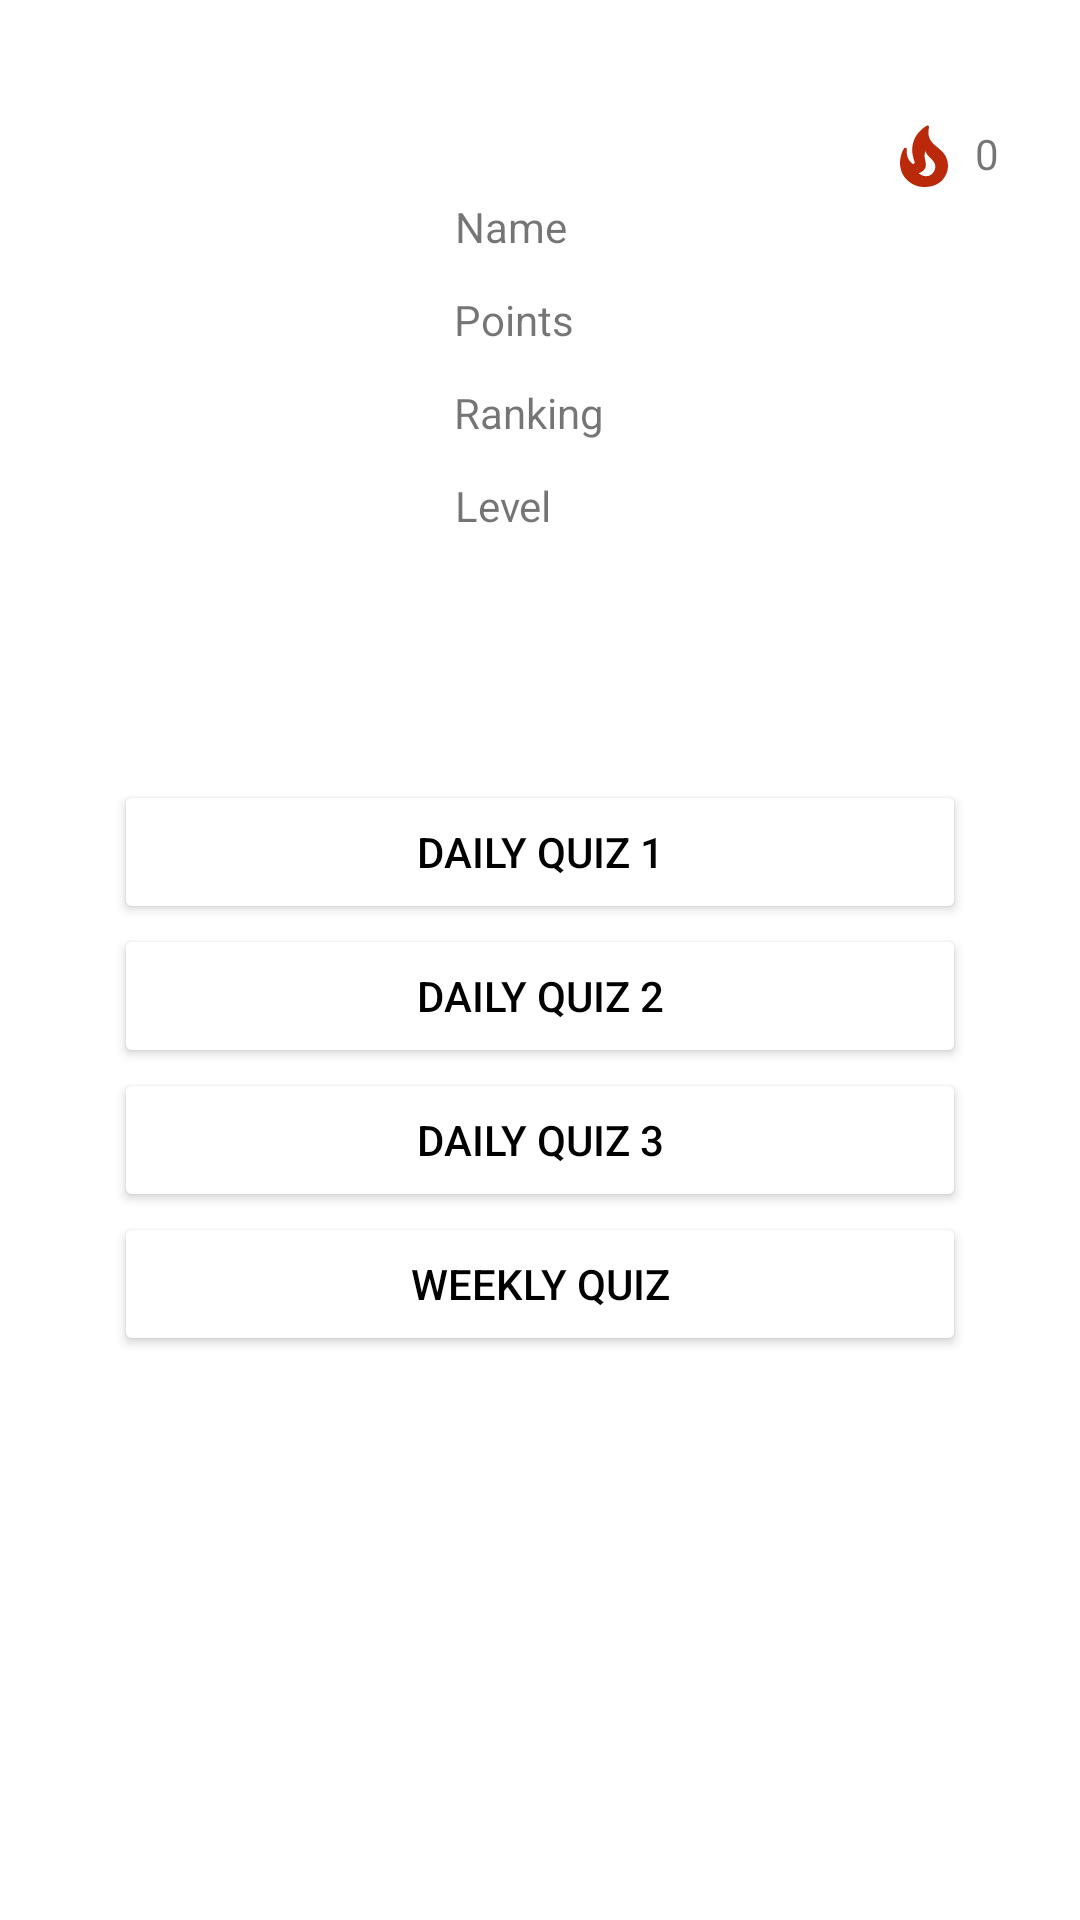

Screen size 1080 × 1920. Icon name, then its box in pixels as {"left": x1, "top": y1, "right": x2, "bottom": y2}:
streak: {"left": 900, "top": 125, "right": 948, "bottom": 187}
